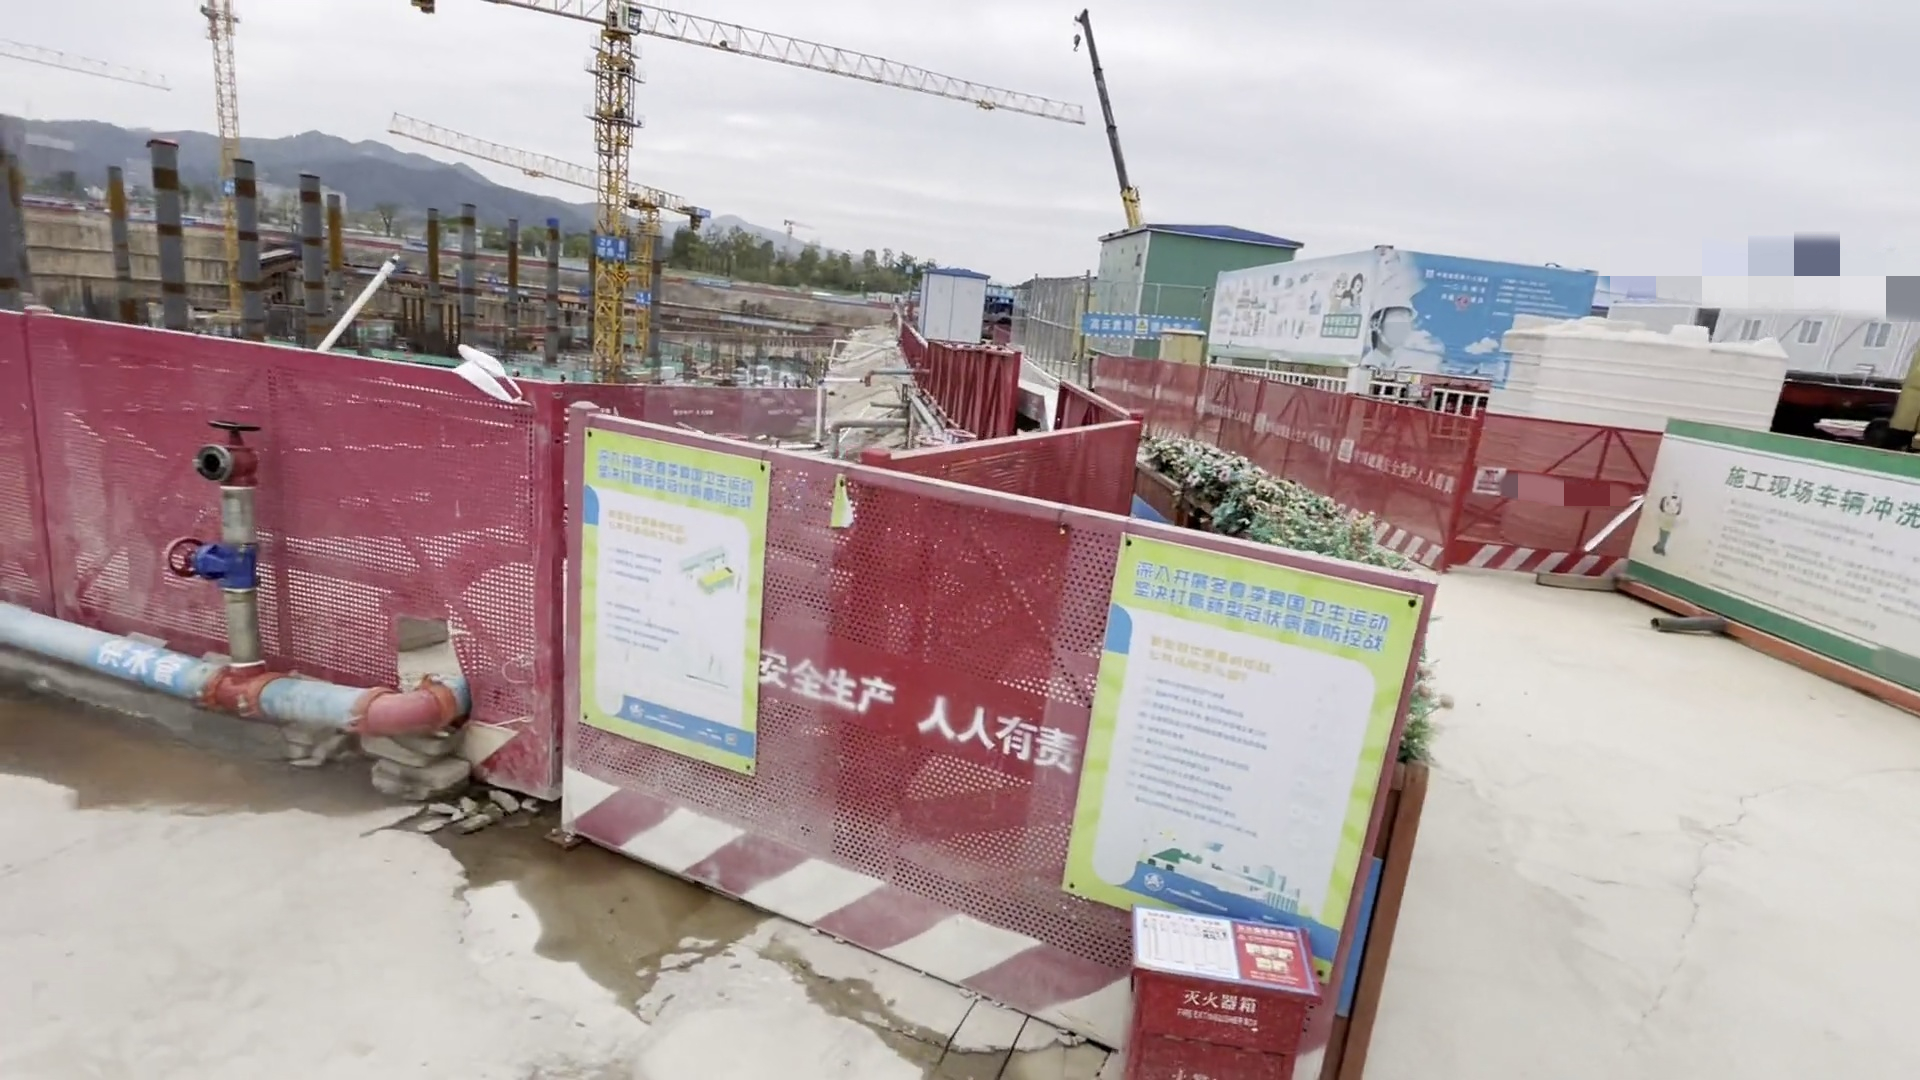ebox: (1158, 332, 1207, 409)
fence: (26, 334, 1336, 1004), (1222, 371, 1654, 564)
slogan: (1096, 538, 1373, 938), (567, 430, 752, 773), (1697, 446, 1920, 625)
